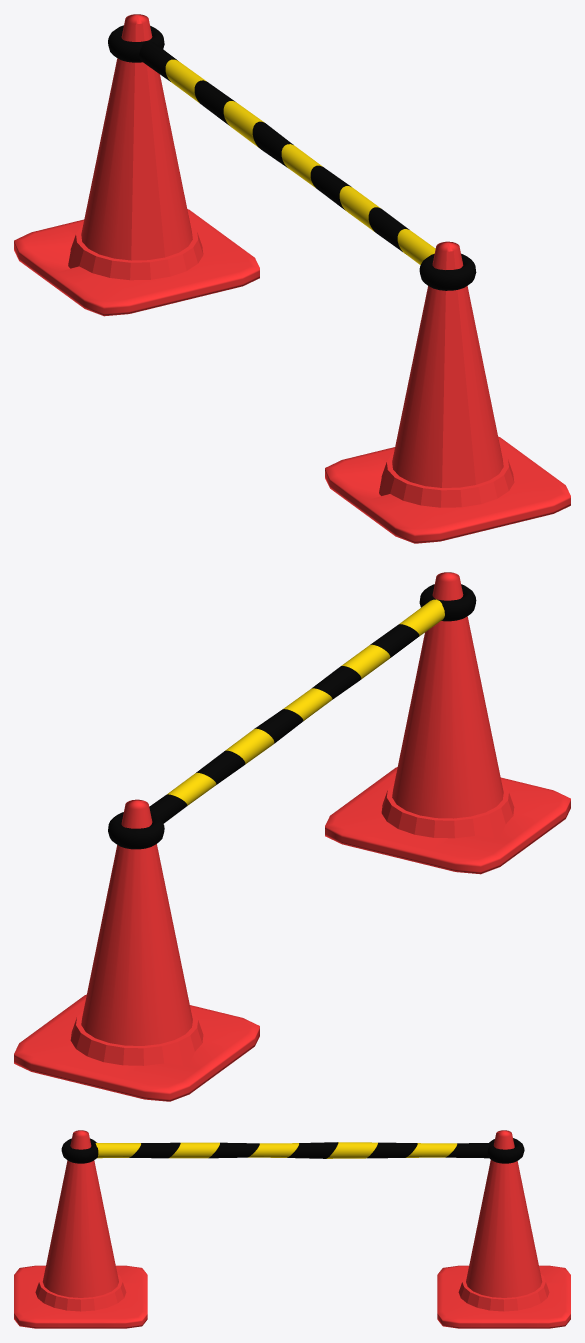
File: corn.obj
3 views of the same model, one above another, from view 1: azimuth 30°, elevation 25°; view 2: azimuth 150°, elevation 25°; view 3: azimuth 270°, elevation 25° (orthographic). The views are drawn at different scales.
Visible parts, largest first — view 1: RedCone4, polySurface1; view 2: RedCone4, polySurface1; view 3: RedCone4, polySurface1.
Part boxes in pixels (x1,y1,x2,y2): RedCone4: (14,14,570,543); polySurface1: (139,41,435,264); RedCone4: (14,572,570,1101); polySurface1: (149,599,444,823); RedCone4: (14,1130,570,1328); polySurface1: (95,1142,489,1158).
Size of the model in its own units: 3.16 by 4.46 by 13.16.
